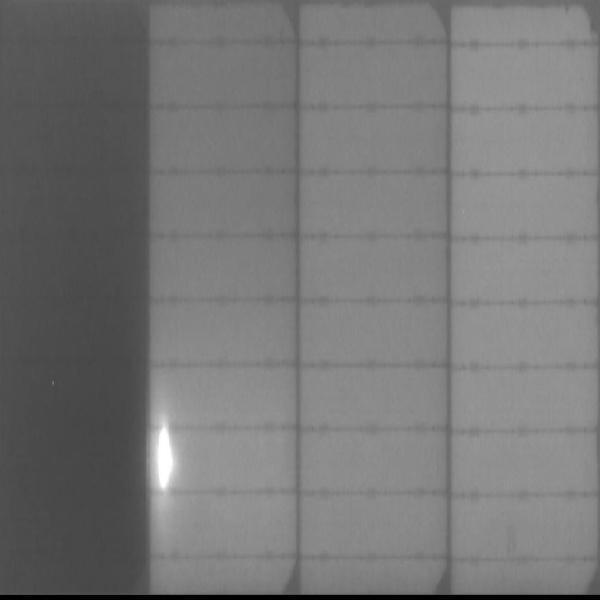hot_spot: (155, 425, 175, 491)
no_electricity: (1, 3, 149, 591)
